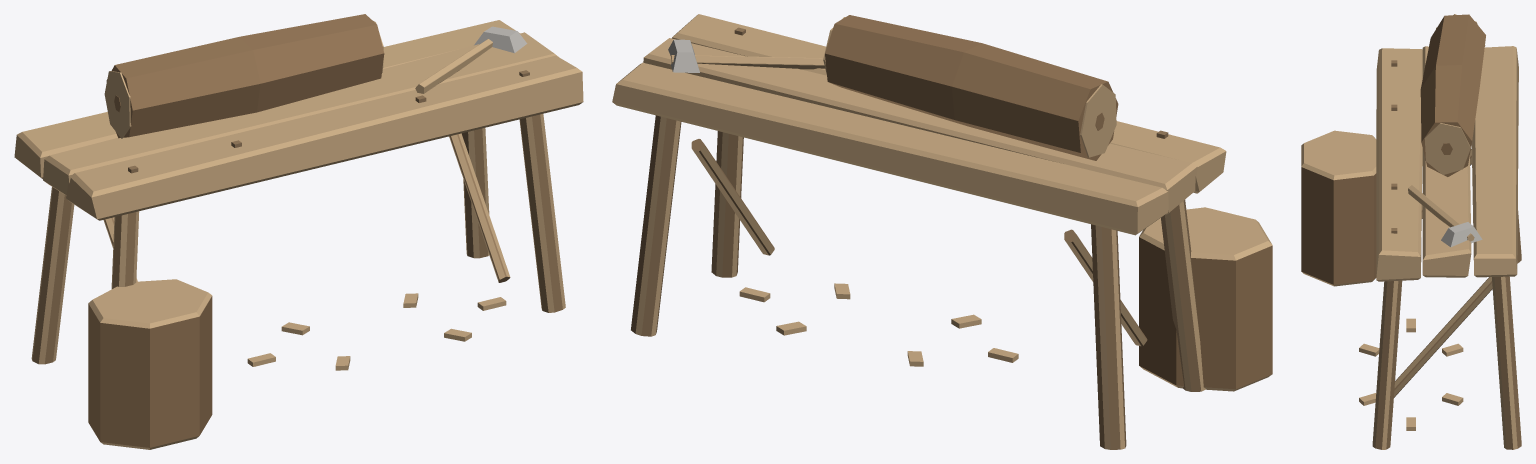
The model's file is wood_bench.glb.
3 renders of one model, left to right at view 1: azimuth 30°, elevation 25°; view 2: azimuth 150°, elevation 25°; view 3: azimuth 270°, elevation 25°, orthographic. The views are drawn at different scales.
Visible parts, largest first — view 1: wood_bench; view 2: wood_bench; view 3: wood_bench.
Part boxes in pixels (bbox=[...]): wood_bench: bbox=[14, 14, 583, 449]; wood_bench: bbox=[612, 14, 1272, 449]; wood_bench: bbox=[1301, 14, 1521, 449].
Bounding box in the file's own units: 1.77 × 1.01 × 0.7564.
